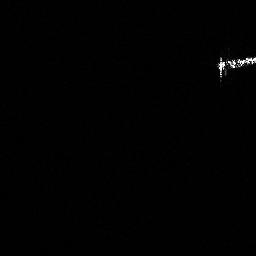ship: (215, 55, 256, 81)
